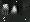person: (12, 5, 19, 15), (4, 6, 10, 16)
